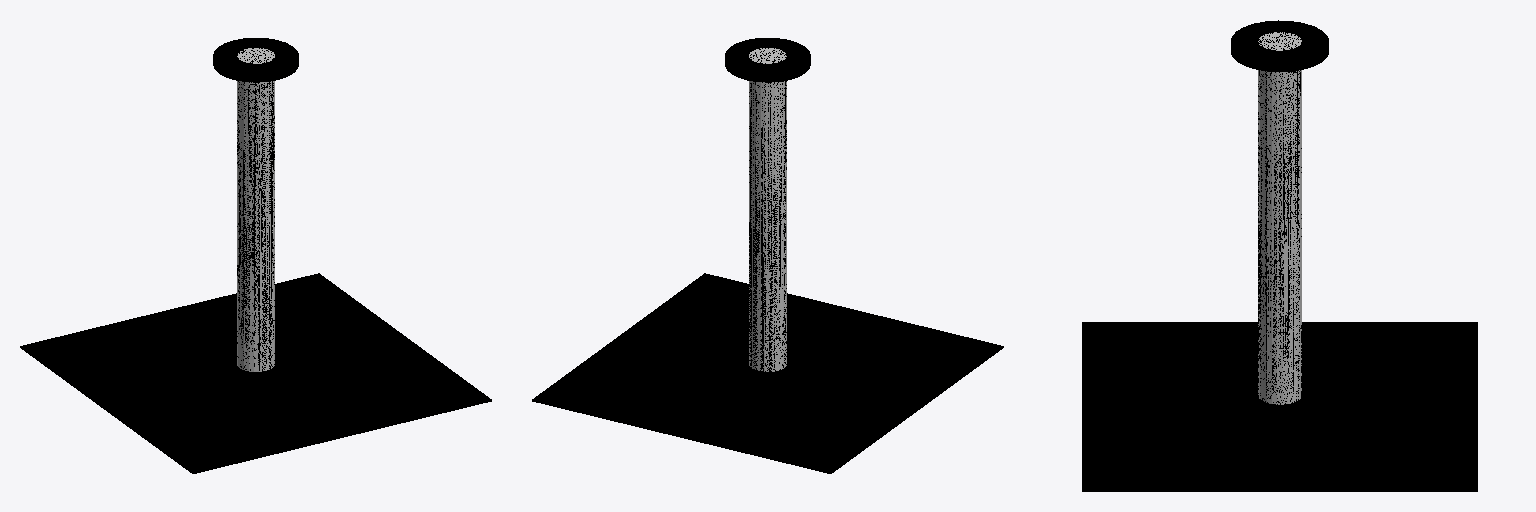
robot.urdf — LWA4_verticalSupport:
<robot
  name="LWA4_verticalSupport">
  <link name="LWA4_verticalSupport">
    <inertial>
      <origin xyz="0.0 0.0 0.0" rpy="0 0 0"/>
      <mass value="5.0"/>
      <inertia ixx="1" ixy="0.0" ixz="0.0" iyy="1" iyz="0.0" izz="1" />
    </inertial>

    <visual>
      <geometry>
        <mesh filename="../meshes/LWA4_verticalSupport.dae" scale="1 1 1" />
      </geometry>
     </visual>

    <collision>
      <geometry>
        <mesh filename="../meshes/LWA4_verticalSupport.dae" scale="1 1 1" />
      </geometry>
    </collision>

  </link>
</robot>

--- Facts derived from the render (not from the file) ---
The picture shows the robot from 3 angles, left to right: view 1: azimuth 30°, elevation 25°; view 2: azimuth 150°, elevation 25°; view 3: azimuth 270°, elevation 25°; orthographic projection.
Robot: LWA4_verticalSupport — 1 links, 0 joints (none); root link LWA4_verticalSupport; default pose: every joint at zero.
Visible links, largest first — view 1: LWA4_verticalSupport; view 2: LWA4_verticalSupport; view 3: LWA4_verticalSupport.
Boxes of the visible links, box(x1,y1,x2,y2) form: LWA4_verticalSupport: box(20, 38, 491, 473); LWA4_verticalSupport: box(532, 38, 1003, 473); LWA4_verticalSupport: box(1082, 20, 1477, 491).
Bounding box of the posed robot: 0.9144 × 0.9144 × 0.9334 m (x, y, z).
Meshes: 1 distinct files referenced, 1 mesh visuals loaded (1 Collada DAE).